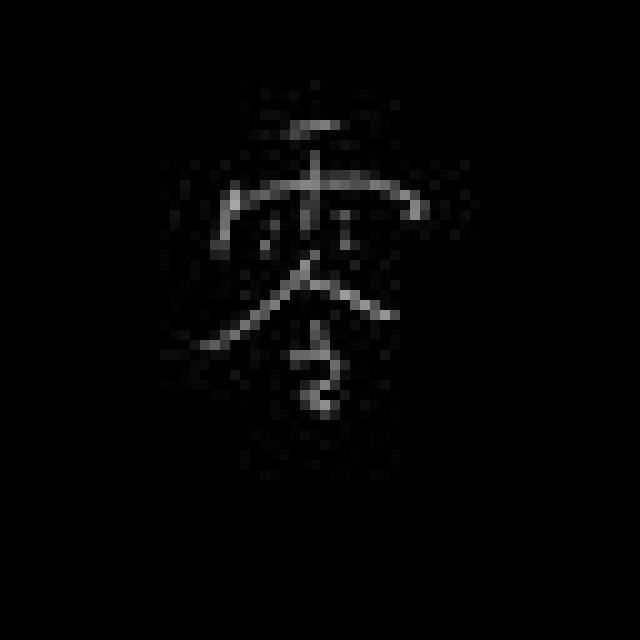0 -zero-: (172, 110, 429, 426)
